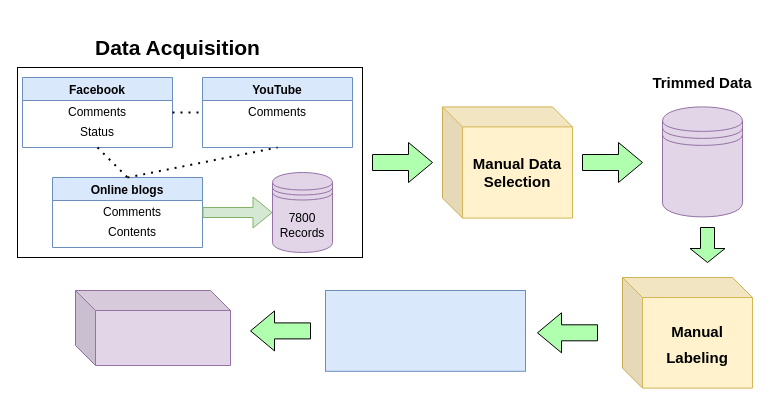
This 780x406 diagram has some shape labels left out. The centre of each missing label's shape, as x and y in pixels:
"5112 Records" belongs at (702,161).
"Data Preprocessing and Cleaning" belongs at (425,330).
"Data Testing" belongs at (152,328).
